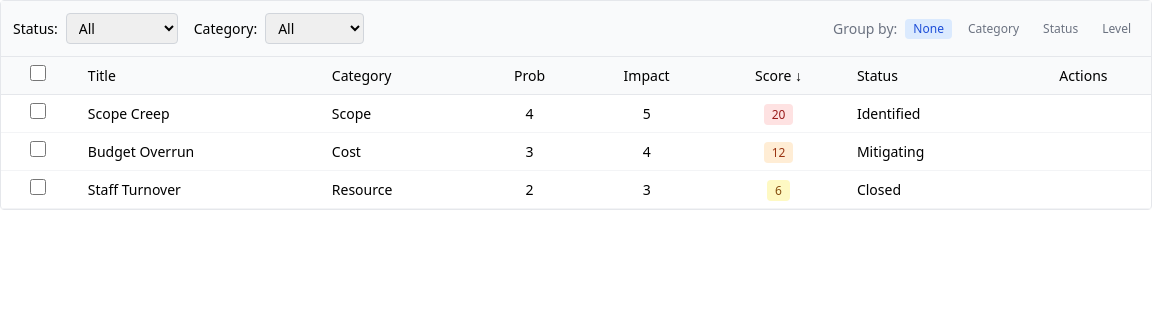
Test: RiskRegister › shows risk count per group
// Select category grouping (click the button in the filter area)
Click the button "Category". click: [993, 28]
box: [960,18,1027,38]
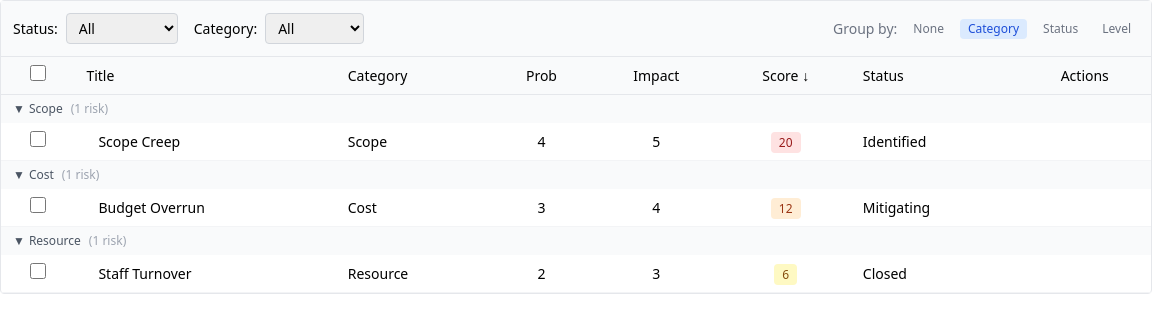
Result: the text "(1 risk)" is shown 3 times at [71,100,108,117]; [62,166,99,183]; [89,232,126,249]
